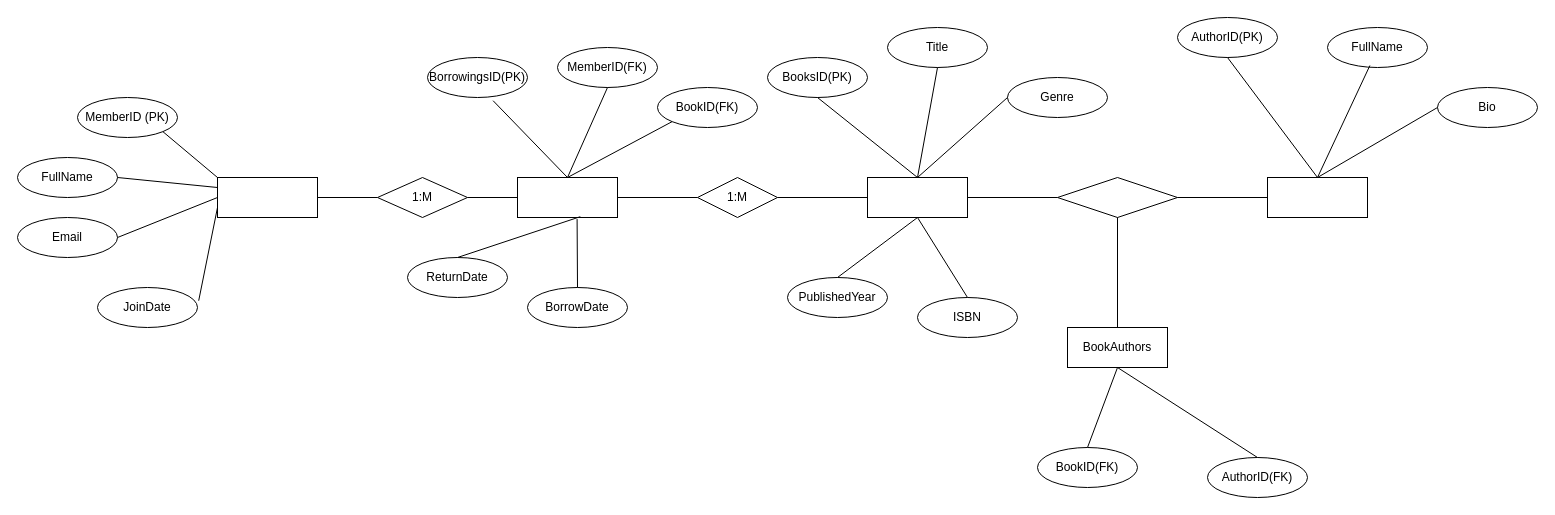
Image size: 1555x515. Some labels were removed from this diagram. The shapes that lost their labels are listed below. From the top down, each one's box as (x1, y1, x2, y2) in pixels, then its label:
(216, 176, 318, 218): Member
(516, 176, 618, 218): Borrowings
(866, 176, 968, 218): Books
(1056, 176, 1178, 218): M:N
(1266, 176, 1368, 218): Authors
